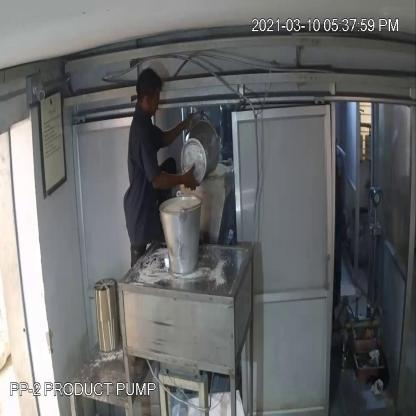no_glove: (145, 153, 202, 201)
